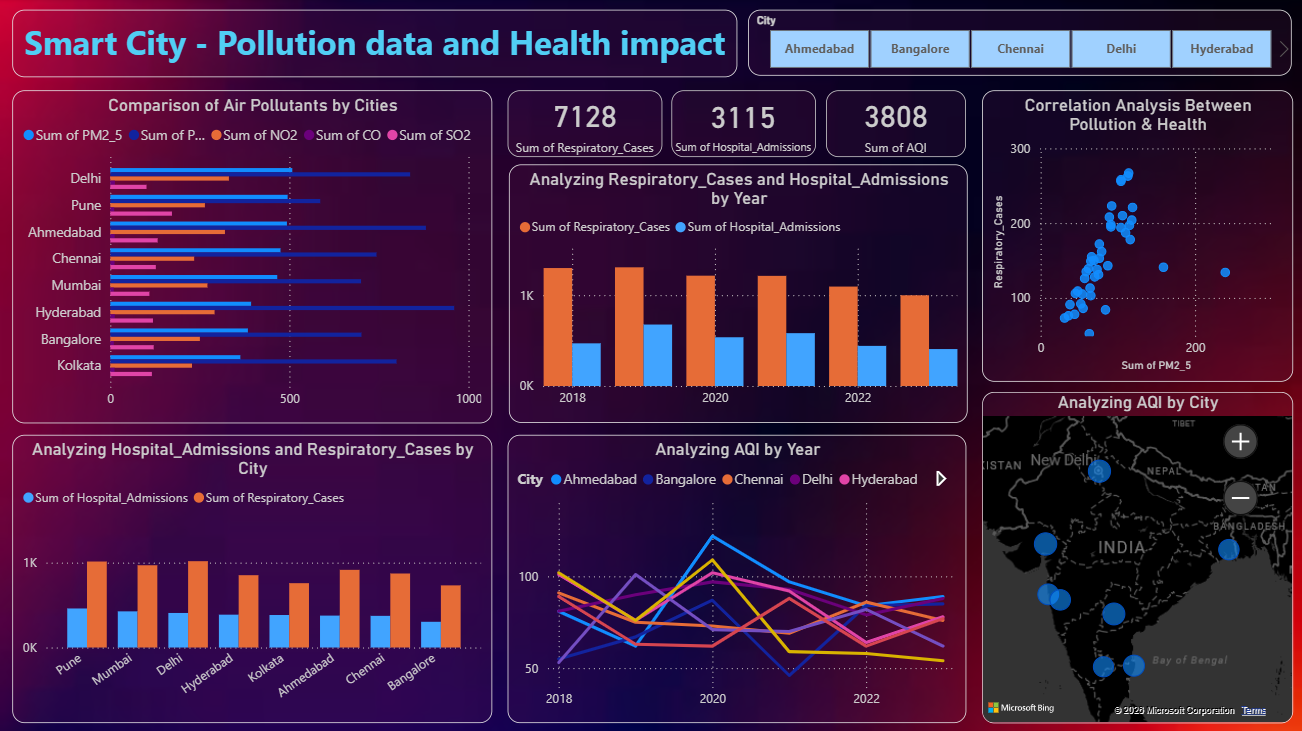

Layout of this report page (visuals, bound fields, positions):
{"tool":"powerbi","page":{"name":"Page 1","canvas":[1280,720],"ordinal":0},"visuals":[{"type":"lineChart","title":"Analyzing AQI by Year","fields":{"Category":["smart_city_air_quality_health_impact.Year"],"Y":["Sum(smart_city_air_quality_health_impact.AQI)"],"Series":["smart_city_air_quality_health_impact.City"]},"box":[499,427.7,449.4,282.6],"z":0},{"type":"clusteredColumnChart","title":"Analyzing Hospital_Admissions and Respiratory_Cases by City","fields":{"Category":["smart_city_air_quality_health_impact.City"],"Y":["Sum(smart_city_air_quality_health_impact.Hospital_Admissions)","Sum(smart_city_air_quality_health_impact.Respiratory_Cases)"]},"box":[14,427.7,469.7,282.6],"z":1000},{"type":"clusteredBarChart","title":"Comparison of Air Pollutants by Cities","fields":{"Category":["smart_city_air_quality_health_impact.City"],"Y":["Sum(smart_city_air_quality_health_impact.PM2_5)","Sum(smart_city_air_quality_health_impact.PM10)","Sum(smart_city_air_quality_health_impact.NO2)","Sum(smart_city_air_quality_health_impact.CO)","Sum(smart_city_air_quality_health_impact.SO2)"]},"box":[14,90.4,469.7,325.9],"z":2000},{"type":"map","title":"Analyzing AQI by City","fields":{"Category":["smart_city_air_quality_health_impact.City"],"Size":["Sum(smart_city_air_quality_health_impact.AQI)"]},"box":[963.7,385.7,304.3,324.6],"z":3000},{"type":"textbox","box":[14,11.5,710.4,66.2],"z":4000},{"type":"card","fields":{"Values":["Sum(smart_city_air_quality_health_impact.Hospital_Admissions)"]},"box":[659.4,90.4,141.3,65],"z":5000},{"type":"card","fields":{"Values":["Sum(smart_city_air_quality_health_impact.Respiratory_Cases)"]},"box":[499,90.4,151.5,65],"z":6000},{"type":"card","fields":{"Values":["Sum(smart_city_air_quality_health_impact.AQI)"]},"box":[810.9,90.4,137,65],"z":7000},{"type":"slicer","fields":{"Values":["smart_city_air_quality_health_impact.City"]},"box":[734,11.5,532,64.9],"z":8000},{"type":"clusteredColumnChart","title":"Analyzing Respiratory_Cases and Hospital_Admissions by Year","fields":{"Category":["smart_city_air_quality_health_impact.Year"],"Y":["Sum(smart_city_air_quality_health_impact.Respiratory_Cases)","Sum(smart_city_air_quality_health_impact.Hospital_Admissions)"]},"box":[500.3,162.9,449.4,253.3],"z":9000},{"type":"scatterChart","title":"Correlation Analysis Between Pollution & Health","fields":{"X":["Sum(smart_city_air_quality_health_impact.PM2_5)"],"Y":["smart_city_air_quality_health_impact.Respiratory_Cases"]},"box":[963.7,90.4,304.3,285.2],"z":10000}]}

Visuals, with their boxes in screenshot pixels (x1, y1, x2, y2), scaled from the page's 1280x720 canvas onto the 1302x731 screenshot:
"Analyzing AQI by Year" lineChart: rect(508, 434, 965, 721)
"Analyzing Hospital_Admissions and Respiratory_Cases by City" clusteredColumnChart: rect(14, 434, 492, 721)
"Comparison of Air Pollutants by Cities" clusteredBarChart: rect(14, 92, 492, 423)
"Analyzing AQI by City" map: rect(980, 392, 1290, 721)
textbox: rect(14, 12, 737, 79)
card - Sum(smart_city_air_quality_health_impact.Hospital_Admissions): rect(671, 92, 814, 158)
card - Sum(smart_city_air_quality_health_impact.Respiratory_Cases): rect(508, 92, 662, 158)
card - Sum(smart_city_air_quality_health_impact.AQI): rect(825, 92, 964, 158)
slicer - smart_city_air_quality_health_impact.City: rect(747, 12, 1288, 78)
"Analyzing Respiratory_Cases and Hospital_Admissions by Year" clusteredColumnChart: rect(509, 165, 966, 423)
"Correlation Analysis Between Pollution & Health" scatterChart: rect(980, 92, 1290, 381)
